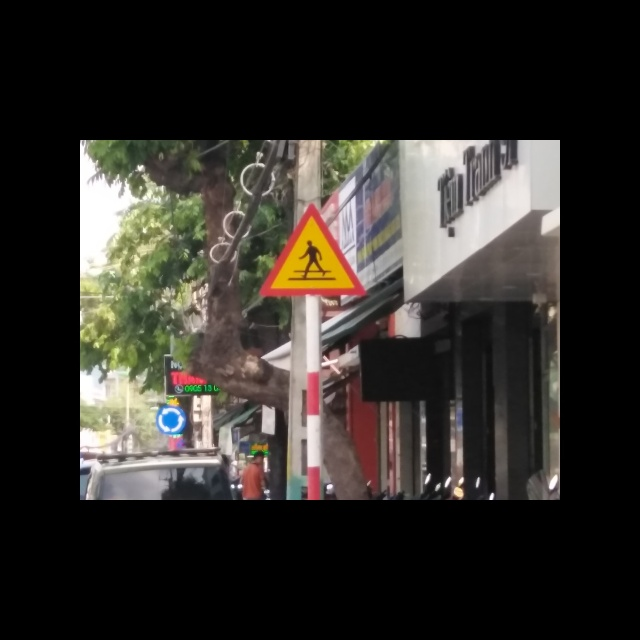Nơi giao nhau chạy theo vòng xuyến: (157, 405, 190, 437)
Đường người đi bộ sang đường: (259, 202, 368, 299)
